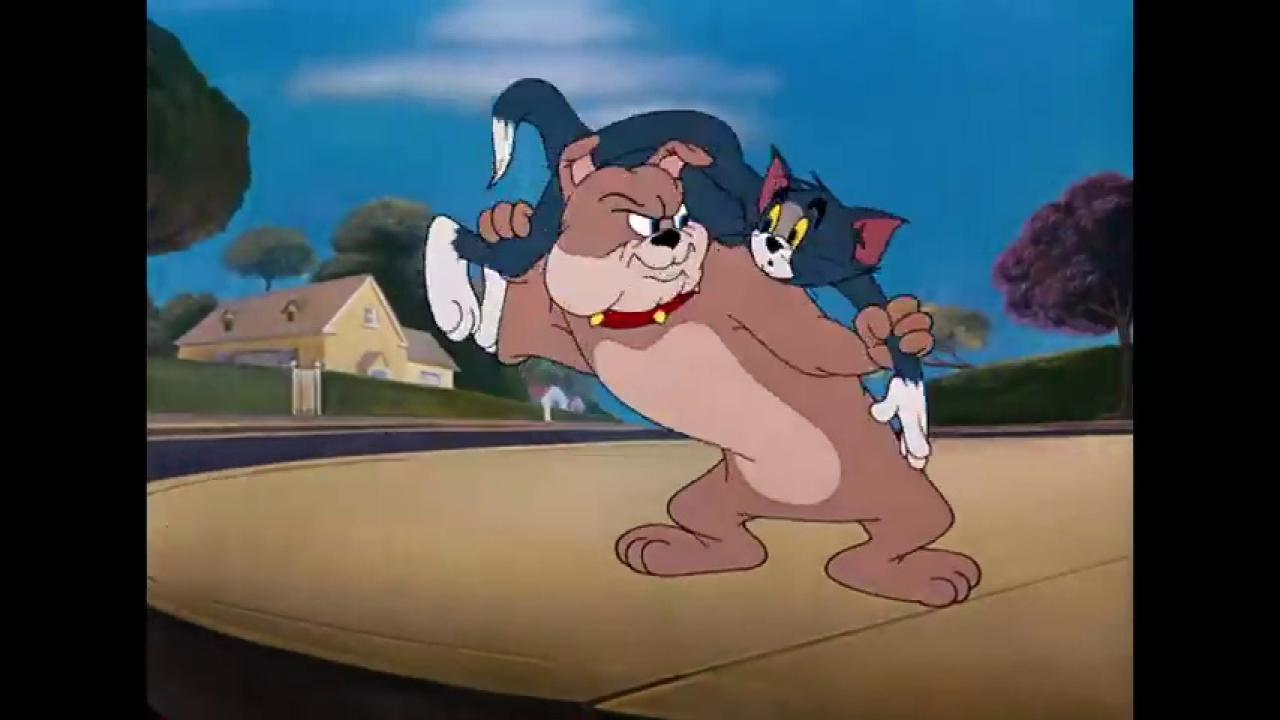Tom: (421, 75, 930, 471)
